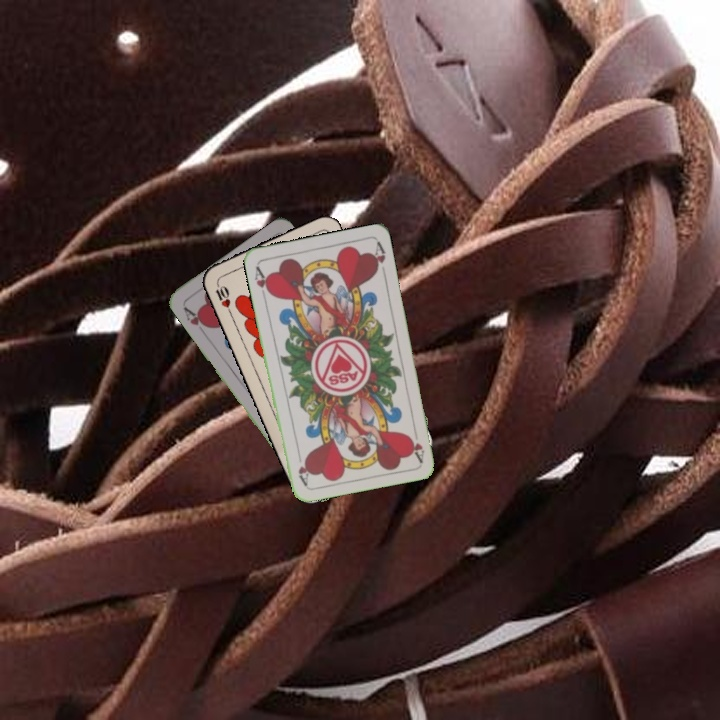H10: (211, 278, 234, 317)
HA: (179, 303, 212, 337), (250, 262, 274, 302), (404, 423, 427, 464)
